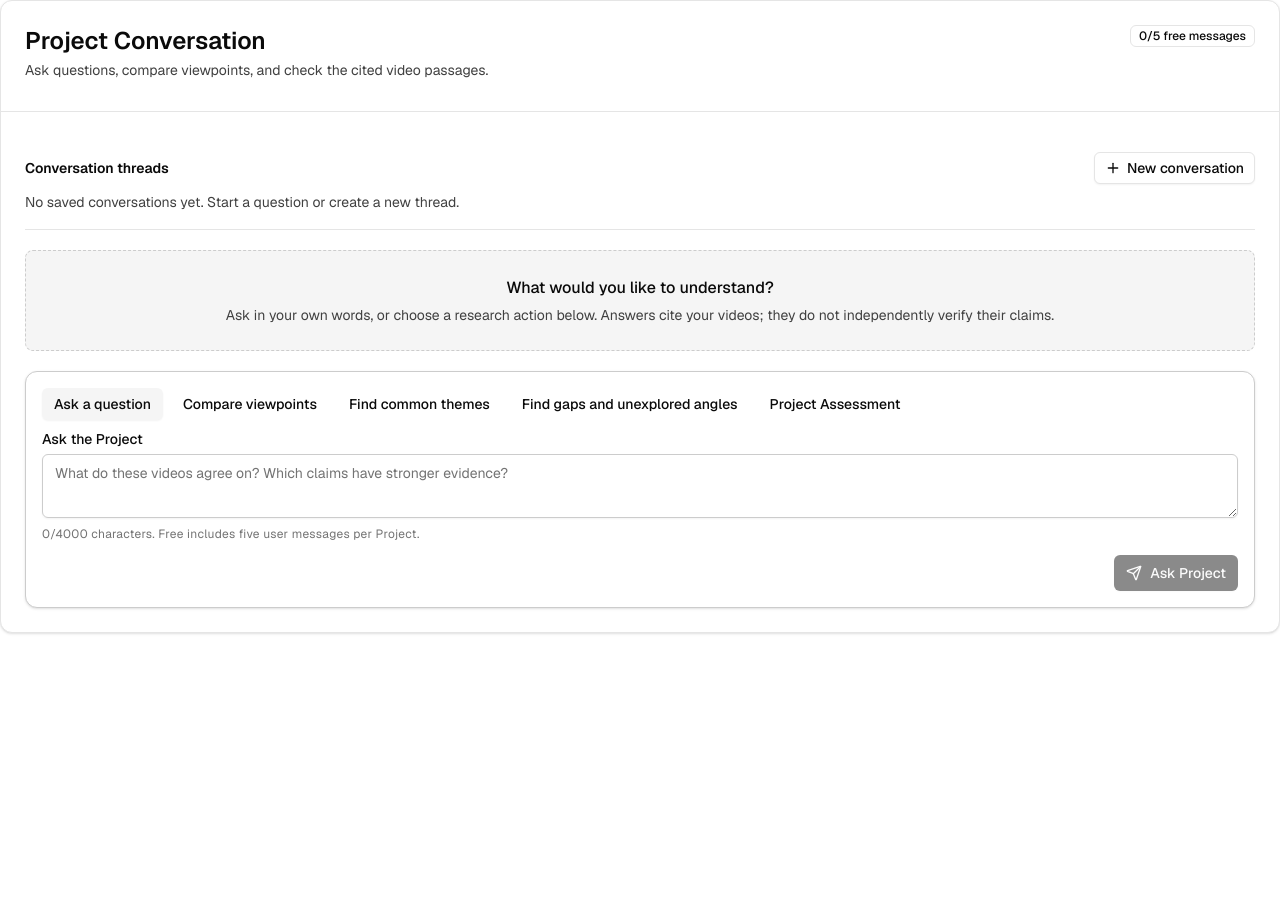
ProjectConversation › disables Stop and announces only the durable terminal completion
Replace the text in the text box labelled "Ask the Project" with "When was the launch?" at (640, 486), box [42,454,1238,518]
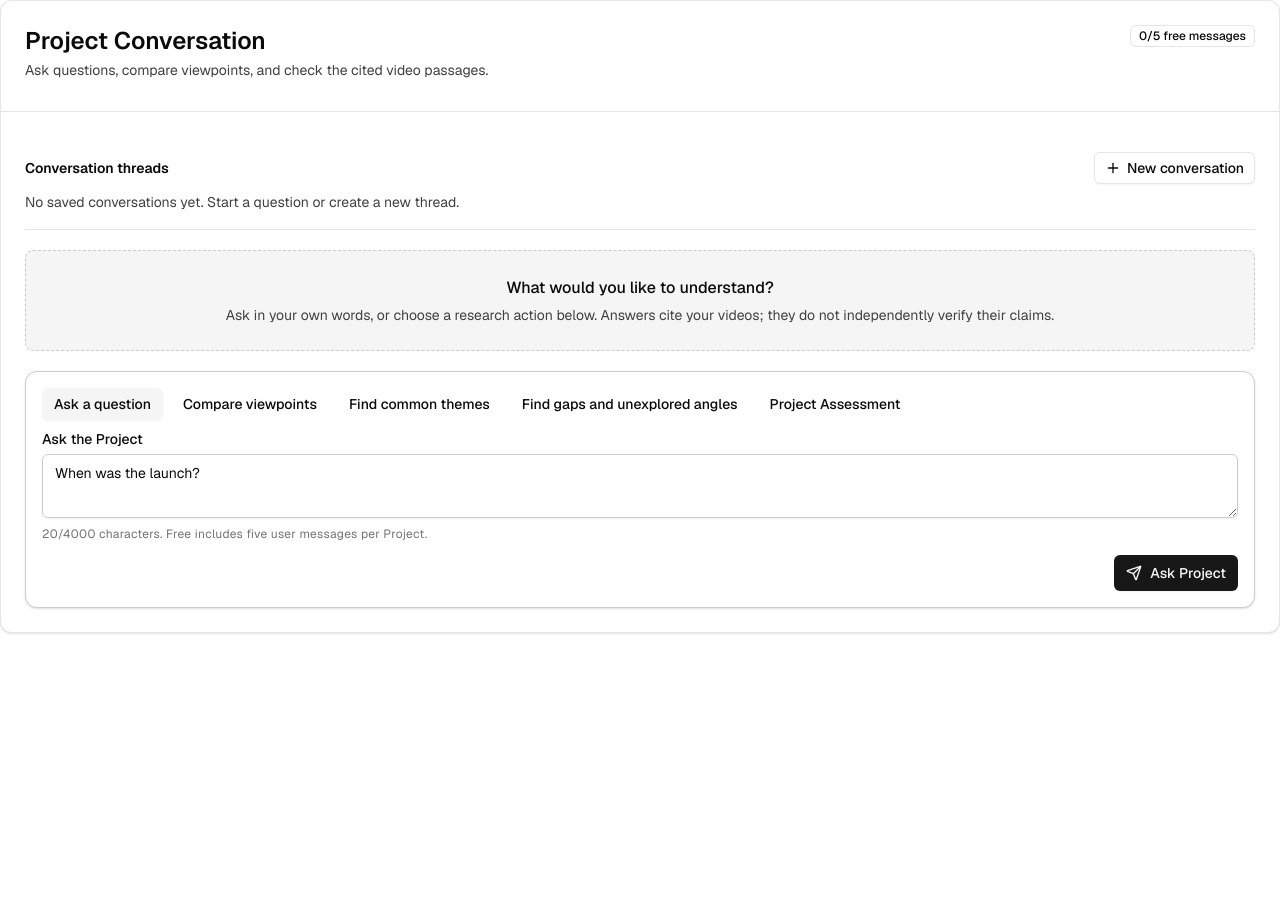
Click the button "Ask Project" at (1176, 573), box [1114,555,1238,591]
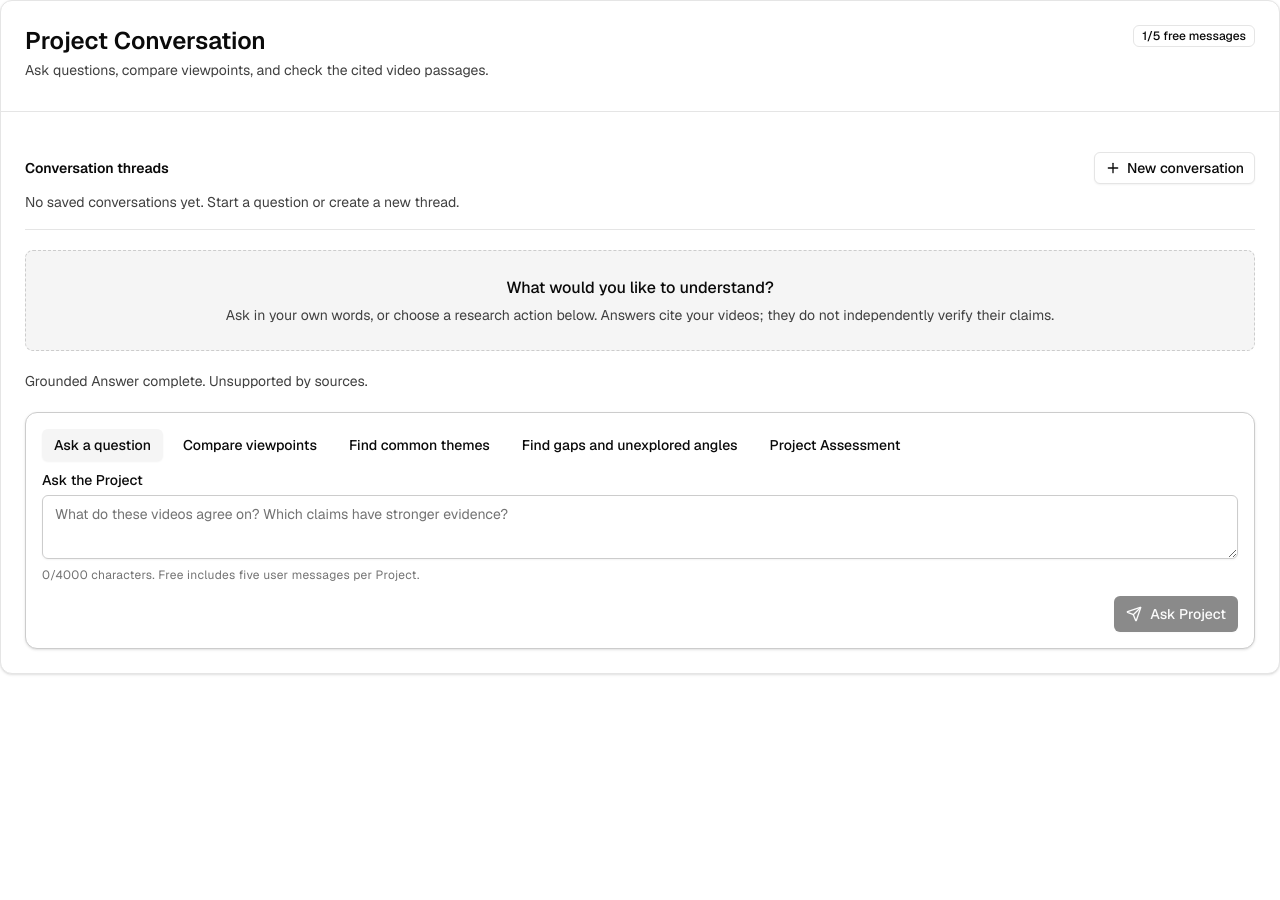
Now the button named "Saving..." is disabled, box [1114,596,1238,632]
Now the text "Grounded Answer complete. Unsupported by sources." is shown, box [25,372,368,390]
